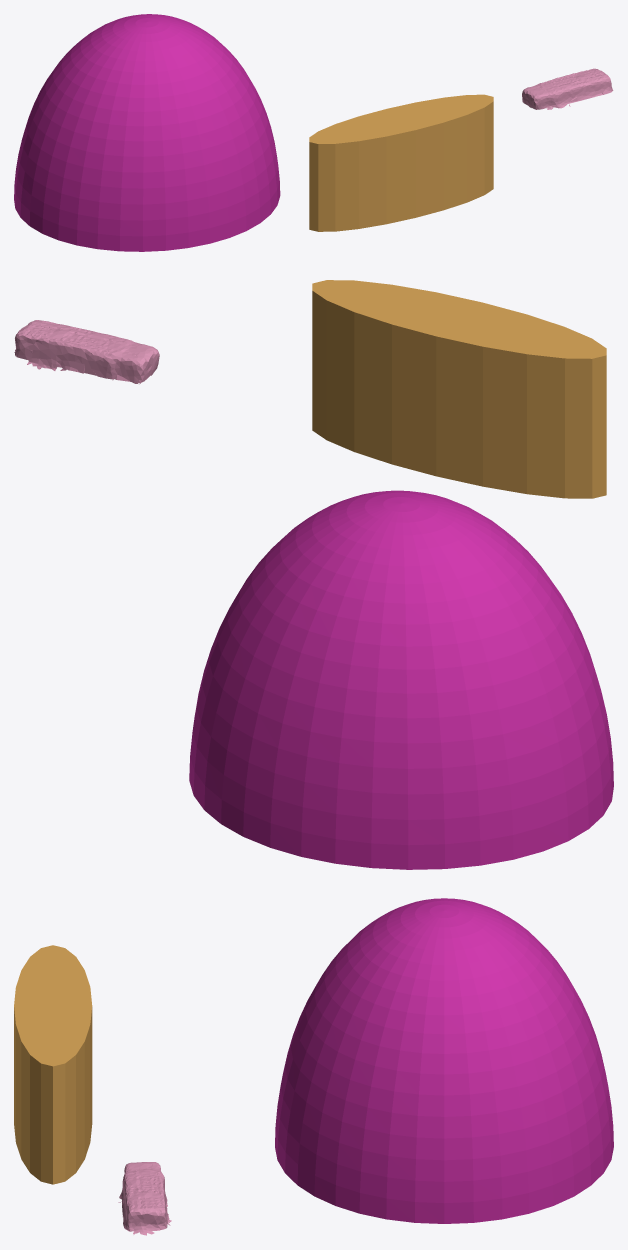
Rendered from tinker.glb.
3 views of the same model, one above another, from view 1: azimuth 30°, elevation 25°; view 2: azimuth 150°, elevation 25°; view 3: azimuth 270°, elevation 25° (orthographic). The views are drawn at different scales.
Visible parts, largest first — view 1: Mesh_Mesh_head_geo.001_lambert2SG.001; view 2: Mesh_Mesh_head_geo.001_lambert2SG.001; view 3: Mesh_Mesh_head_geo.001_lambert2SG.001.
Boxes of the visible parts, left/top/right/bottom form: Mesh_Mesh_head_geo.001_lambert2SG.001: left=14, top=14, right=613, bottom=251; Mesh_Mesh_head_geo.001_lambert2SG.001: left=14, top=280, right=613, bottom=869; Mesh_Mesh_head_geo.001_lambert2SG.001: left=14, top=898, right=613, bottom=1235.
Size of the model in its own units: 28.01 by 10 by 23.
